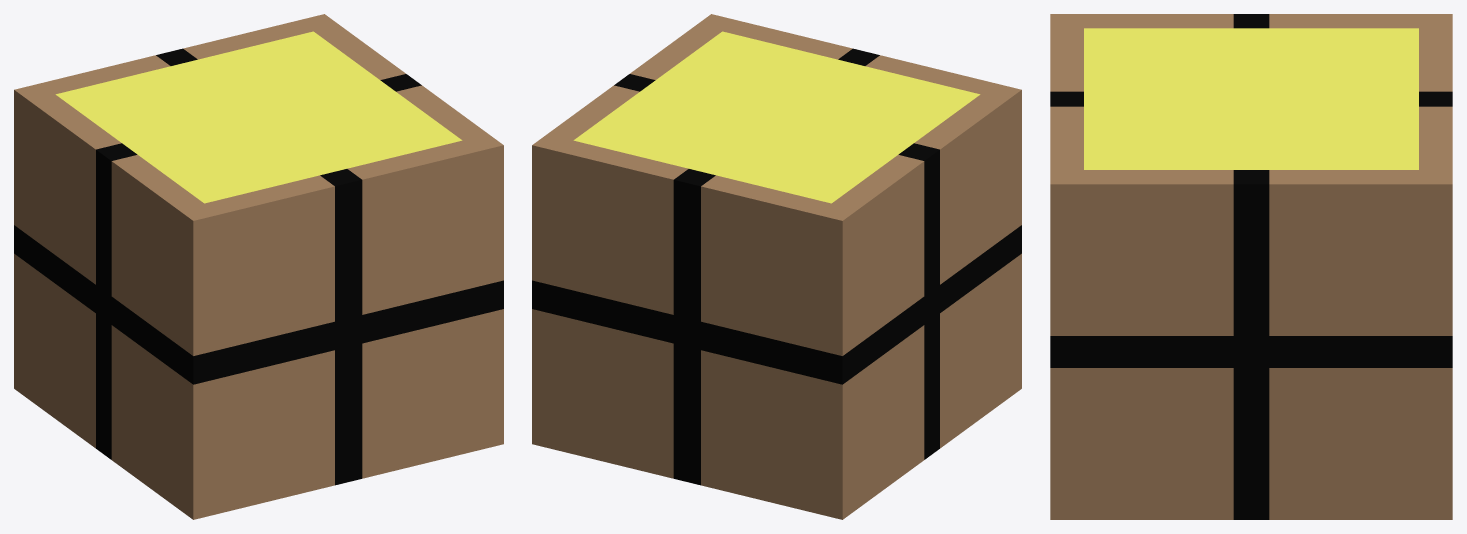
3 views of the same model, side by side, from view 1: azimuth 30°, elevation 25°; view 2: azimuth 150°, elevation 25°; view 3: azimuth 270°, elevation 25° (orthographic). The views are drawn at different scales.
Parts seen in each view (by area): view 1: Box; view 2: Box; view 3: Box.
Boxes of the visible parts, x1,y1,x2,y2 form: Box: (14, 14, 503, 519); Box: (532, 14, 1021, 519); Box: (1050, 14, 1452, 519).
Bounding box in the file's own units: 52.72 × 48.51 × 52.72.
